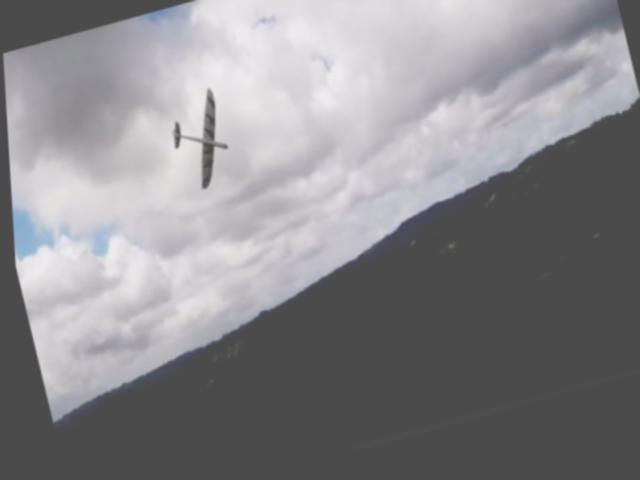iha: (157, 85, 244, 201)
